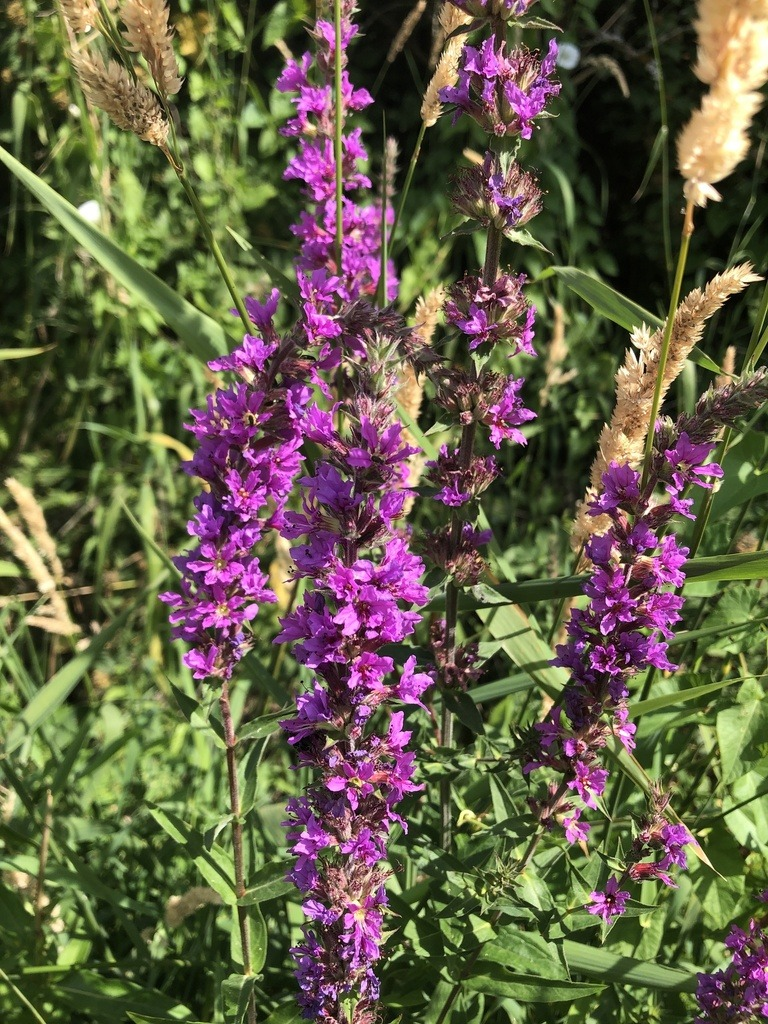purple loosestrife: (158, 5, 766, 1017)
